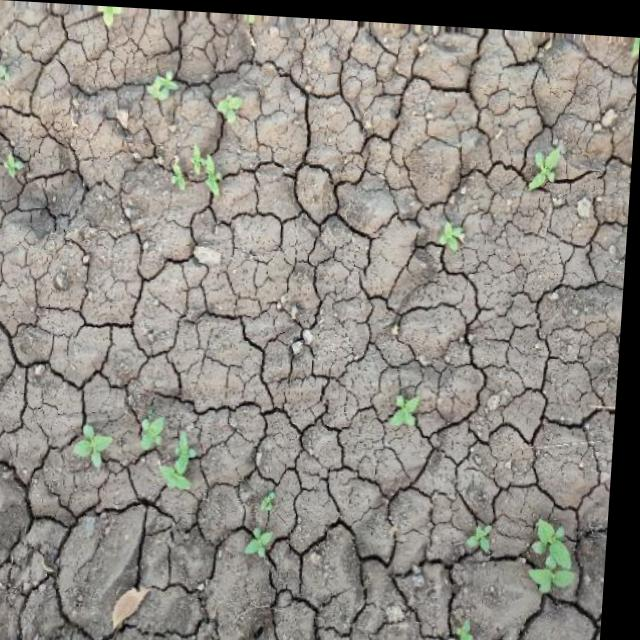crop: (528, 502, 595, 596), (140, 415, 205, 491), (160, 143, 232, 190), (76, 414, 120, 472), (529, 140, 571, 188), (0, 141, 38, 187), (210, 85, 251, 125), (143, 70, 185, 101), (247, 523, 288, 554), (389, 389, 428, 421)
